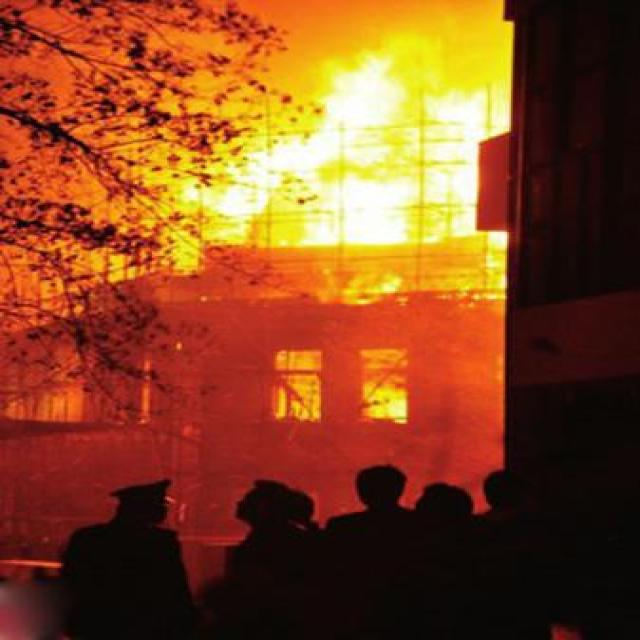fire: (108, 64, 501, 288), (266, 338, 422, 421)
